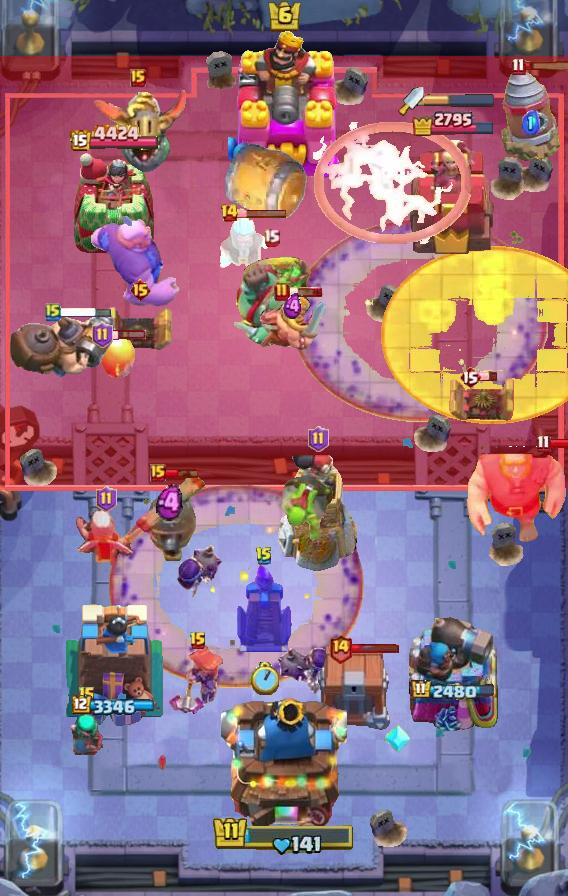balloon: (466, 446, 568, 544), (88, 217, 182, 309)
bar: (409, 138, 497, 256)
bar-level: (278, 473, 336, 545)
barbarian-evolution: (313, 122, 471, 244)
bomb: (315, 645, 393, 731)
clock: (212, 815, 356, 857)
dark-prince: (125, 473, 213, 561)
dirt: (222, 141, 308, 223)
electro-spirit: (157, 484, 184, 522), (283, 293, 303, 320), (522, 110, 540, 135)
elixir: (250, 661, 279, 694)
emote: (59, 305, 113, 318), (236, 208, 288, 219), (350, 642, 400, 653), (524, 61, 568, 72), (109, 329, 146, 341), (287, 286, 323, 298), (164, 467, 200, 479), (548, 437, 567, 449), (478, 371, 498, 382)
goblin-ball: (275, 638, 335, 696), (176, 543, 222, 601)
goblin-brawler: (448, 375, 518, 425), (104, 305, 176, 353)
goblin-giant: (258, 294, 328, 352)
hog: (98, 336, 138, 380)
ice-spirit-evolution-symbol: (234, 562, 294, 654)
king-tower: (221, 690, 347, 826), (228, 29, 340, 181)
king-tower-bar: (424, 93, 496, 107)
lava-hound: (231, 250, 311, 348)
magic-archer: (501, 68, 561, 162)
mortar: (215, 214, 273, 282)
night-witch: (89, 82, 187, 174)
pad_2: (383, 723, 411, 755)
phoenix-egg: (380, 246, 568, 426)
poison: (63, 500, 149, 576)
queen-tower: (61, 599, 166, 731), (71, 152, 157, 256)
rocket: (292, 218, 548, 422), (108, 484, 364, 688)
selected: (68, 124, 159, 154), (412, 109, 497, 136), (410, 678, 496, 701), (71, 695, 156, 717)
tesla-evolution: (168, 643, 228, 723)
text: (328, 632, 353, 663), (129, 278, 152, 302), (91, 322, 112, 348), (307, 426, 328, 452), (96, 486, 117, 512), (459, 365, 481, 389), (221, 203, 240, 223), (255, 546, 273, 566), (189, 631, 207, 651), (78, 686, 96, 706), (274, 282, 290, 302), (45, 302, 61, 322), (263, 229, 280, 247), (130, 69, 146, 87), (150, 464, 166, 482), (537, 435, 552, 454), (511, 57, 525, 76)
tower-bar: (407, 611, 499, 731)
witch: (68, 711, 106, 757)
wizard: (6, 310, 118, 380)
zappy: (275, 451, 360, 573)
